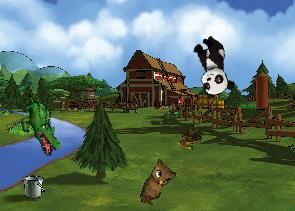crocodile: (6, 91, 74, 158)
owl: (138, 157, 179, 210)
panda: (188, 33, 236, 99)
